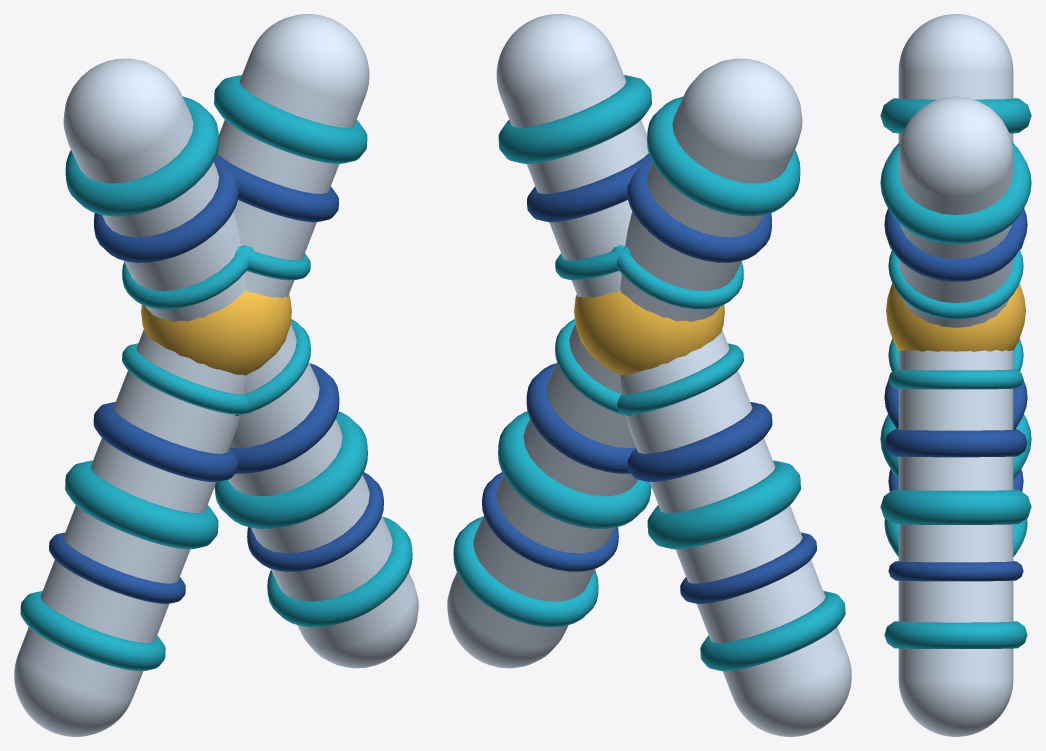
The model's file is cromossomo-gigante.glb.
The picture shows the model from 3 angles, left to right: view 1: azimuth 30°, elevation 25°; view 2: azimuth 150°, elevation 25°; view 3: azimuth 270°, elevation 25°; orthographic projection. The views are drawn at different scales.
Visible parts, largest first — view 1: cromatide (×4), banda-2 (×4), banda-1 (×4), banda-4 (×2), banda-0 (×4), centromero, banda-3 (×2); view 2: cromatide (×4), banda-2 (×4), banda-1 (×4), banda-4 (×2), banda-0 (×4), centromero, banda-3 (×2); view 3: cromatide (×3), banda-2 (×4), banda-1 (×3), banda-0 (×3), centromero, banda-4 (×2), banda-3 (×2).
Boxes of the visible parts, x1,y1,x2,y2 form: cromatide (×4): (14, 14, 418, 736); banda-2 (×4): (65, 75, 367, 549); banda-1 (×4): (93, 153, 339, 481); banda-4 (×2): (20, 517, 412, 671); banda-0 (×4): (122, 245, 310, 416); centromero: (141, 290, 291, 375); banda-3 (×2): (49, 472, 383, 603); cromatide (×4): (447, 14, 851, 736); banda-2 (×4): (498, 75, 800, 549); banda-1 (×4): (526, 153, 772, 481); banda-4 (×2): (453, 517, 845, 671); banda-0 (×4): (555, 245, 743, 416); centromero: (574, 290, 724, 375); banda-3 (×2): (482, 472, 816, 603); cromatide (×3): (898, 14, 1013, 736); banda-2 (×4): (880, 98, 1031, 524); banda-1 (×3): (884, 208, 1027, 457); banda-0 (×3): (888, 249, 1023, 389); centromero: (886, 283, 1025, 351); banda-4 (×2): (884, 518, 1027, 648); banda-3 (×2): (888, 469, 1023, 581).
Size of the model in its own units: 1.03 by 1.67 by 0.3759.
